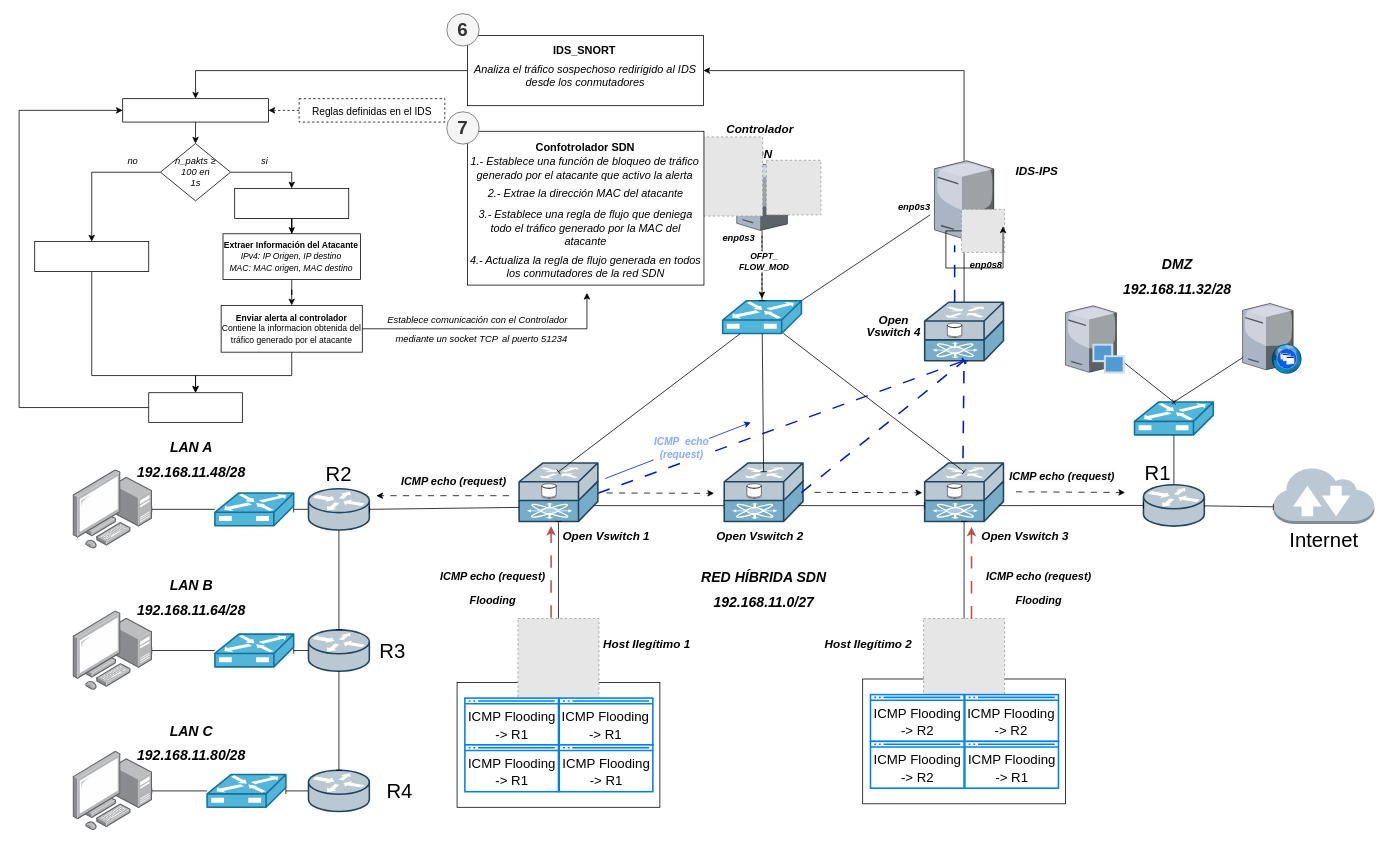
This 1388x844 diagram has some shape labels left out. Grey dashed boxes stand in for pictures. Each missing label, with the centre of its shape:
Alerta Generada Ataque DoS ICMP Detectado: point 291,203
Snort continua analizando el tráfico: point 195,407
Trafico analizado por el IDS: point 195,110
Trafico Normal No genera ninguna alerta: point 91,256
